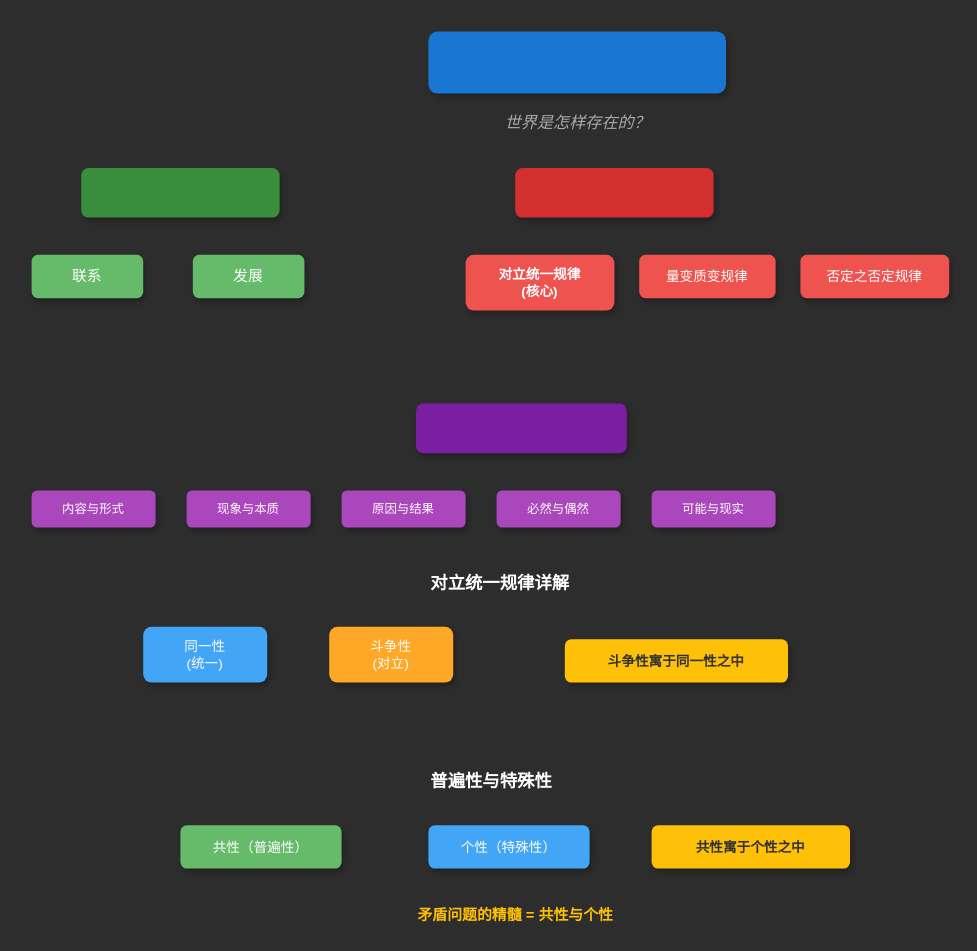
The diagram is 977 pixels wide and 951 high, and some of its shapes have lost their labels. Here are the shapes that lost their labels. From the top down, the centre of each, then its label:
the point at 578,64: 唯物辩证法框架
the point at 181,194: 二：两大总特征
the point at 615,194: 三：三大规律
the point at 522,429: 五：五对基本范畴
